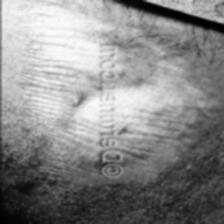Unclassified: (14, 1, 94, 161), (120, 36, 188, 160)
